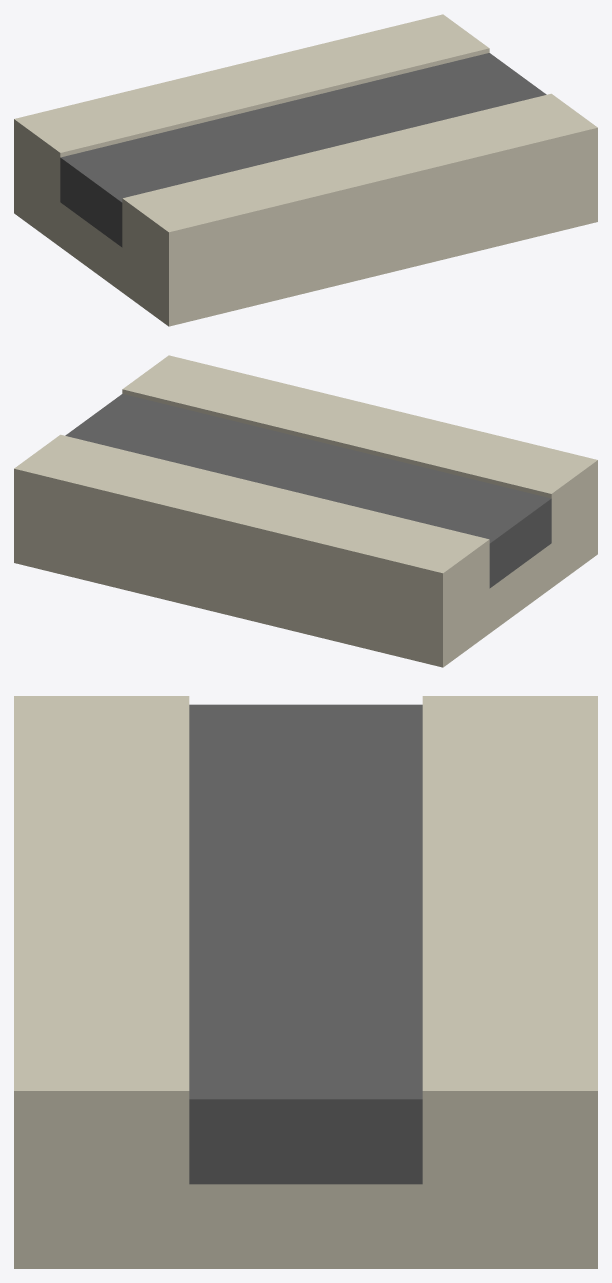
The model's file is tile218.fbx.
3 views of the same model, one above another, from view 1: azimuth 30°, elevation 25°; view 2: azimuth 150°, elevation 25°; view 3: azimuth 270°, elevation 25° (orthographic). The views are drawn at different scales.
Parts seen in each view (by area): view 1: tile218; view 2: tile218; view 3: tile218.
Boxes of the visible parts, <box> form: tile218: <box>14,14,597,326</box>; tile218: <box>14,355,597,667</box>; tile218: <box>14,696,597,1268</box>.
Size of the model in its own units: 10 by 2.1 by 6.25.
